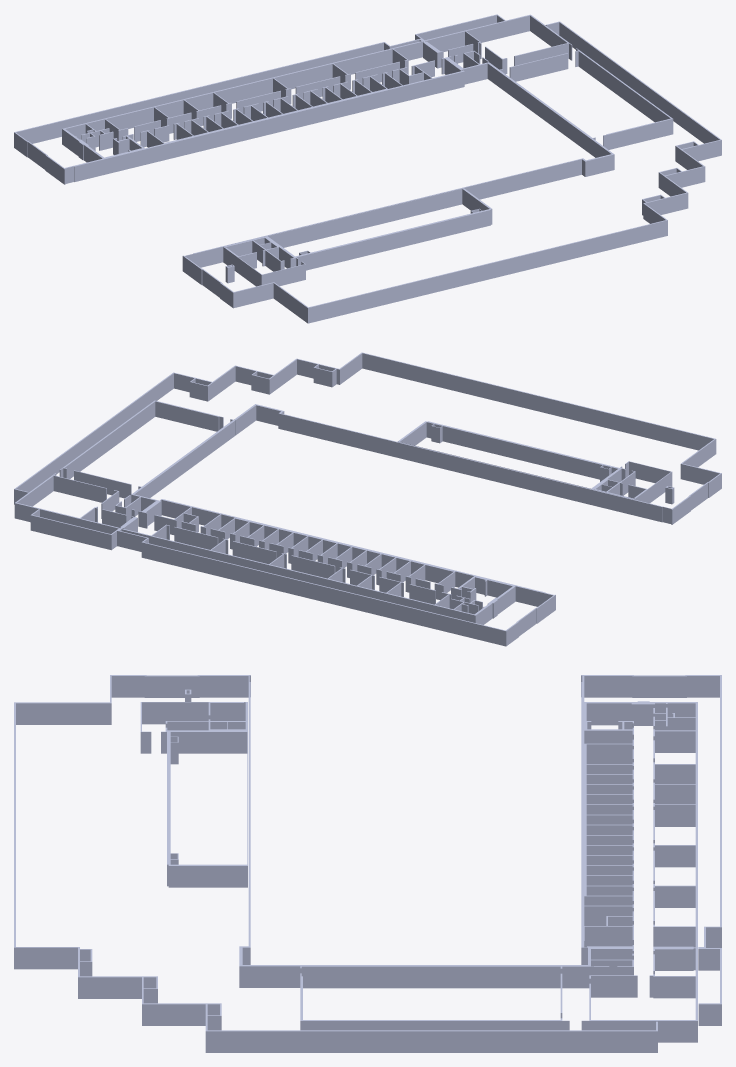
Rendered from 6walls.FBX.
3 renders of one model, top to bottom at view 1: azimuth 30°, elevation 25°; view 2: azimuth 150°, elevation 25°; view 3: azimuth 270°, elevation 25°, orthographic. The views are drawn at different scales.
Visible parts, largest first — view 1: 凸台-拉伸1[2], 凸台-拉伸1[3], 凸台-拉伸1[7], 凸台-拉伸1[1], 凸台-拉伸1[14], 凸台-拉伸1[6]; view 2: 凸台-拉伸1[3], 凸台-拉伸1[2], 凸台-拉伸1[1], 凸台-拉伸1[7], 凸台-拉伸1[14], 凸台-拉伸1[6], 凸台-拉伸1[10], 凸台-拉伸1[9], 凸台-拉伸1[11]; view 3: 凸台-拉伸1[2], 凸台-拉伸1[3], 凸台-拉伸1[7], 凸台-拉伸1[1], 凸台-拉伸1[14], 凸台-拉伸1[5].
Boxes of the visible parts, x1,y1,x2,y2 form: 凸台-拉伸1[2]: [62, 14, 595, 174]; 凸台-拉伸1[3]: [182, 21, 721, 323]; 凸台-拉伸1[7]: [223, 188, 492, 286]; 凸台-拉伸1[1]: [14, 14, 505, 184]; 凸台-拉伸1[14]: [575, 48, 673, 149]; 凸台-拉伸1[6]: [509, 53, 568, 81]; 凸台-拉伸1[3]: [14, 352, 721, 524]; 凸台-拉伸1[2]: [14, 419, 516, 624]; 凸台-拉伸1[1]: [30, 509, 555, 646]; 凸台-拉伸1[7]: [397, 421, 672, 503]; 凸台-拉伸1[14]: [59, 400, 223, 478]; 凸台-拉伸1[6]: [74, 470, 131, 498]; 凸台-拉伸1[10]: [232, 541, 276, 564]; 凸台-拉伸1[9]: [291, 555, 335, 578]; 凸台-拉伸1[11]: [174, 527, 218, 549]; 凸台-拉伸1[2]: [300, 701, 697, 1042]; 凸台-拉伸1[3]: [14, 675, 657, 1052]; 凸台-拉伸1[7]: [140, 702, 247, 887]; 凸台-拉伸1[1]: [581, 675, 721, 1025]; 凸台-拉伸1[14]: [300, 973, 569, 1030]; 凸台-拉伸1[5]: [589, 975, 637, 997].
Bounding box in the file's own units: 4152 × 118 × 3488.
